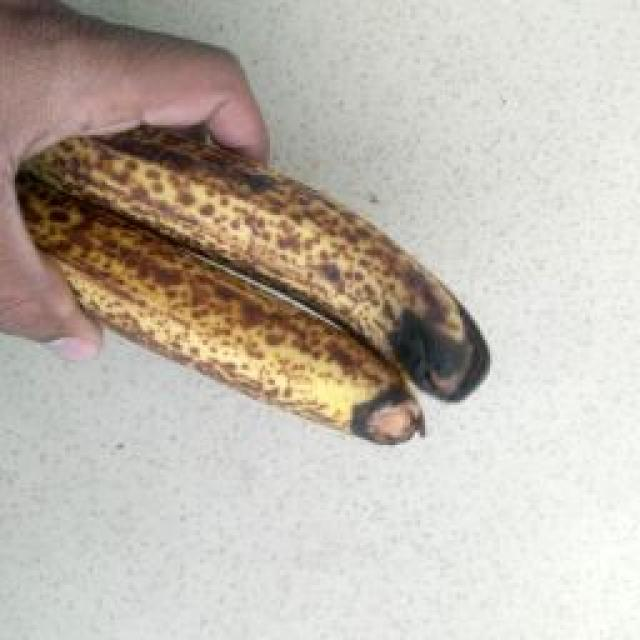banana: (121, 83, 599, 551)
